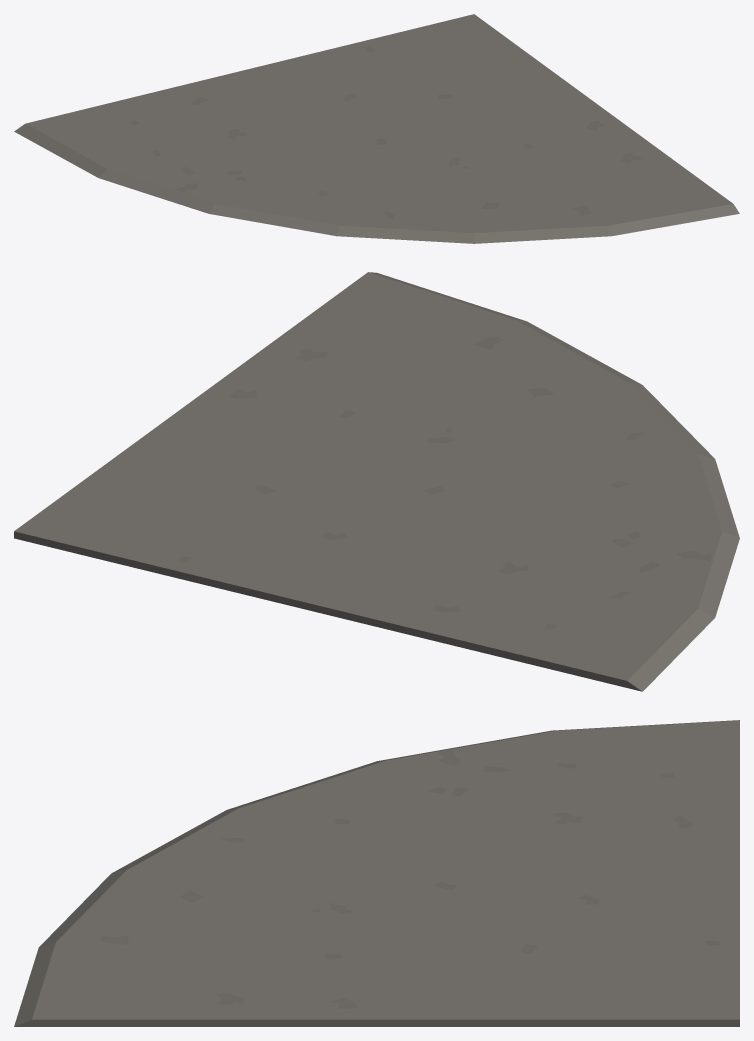
File: SM_Env_Road_Corner_01.fbx
The picture shows the model from 3 angles, top to bottom: view 1: azimuth 30°, elevation 25°; view 2: azimuth 150°, elevation 25°; view 3: azimuth 270°, elevation 25°; orthographic projection. The views are drawn at different scales.
Parts seen in each view (by area): view 1: SM_Env_Road_Corner_01; view 2: SM_Env_Road_Corner_01; view 3: SM_Env_Road_Corner_01.
Part boxes in pixels (left/top/right/bottom): SM_Env_Road_Corner_01: left=14, top=14, right=739, bottom=243; SM_Env_Road_Corner_01: left=14, top=272, right=739, bottom=691; SM_Env_Road_Corner_01: left=14, top=720, right=739, bottom=1026.
Bounding box in the file's own units: 769 × 8.34 × 769.
